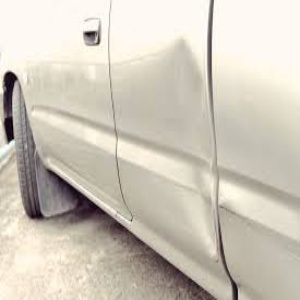door: (68, 36, 263, 205)
